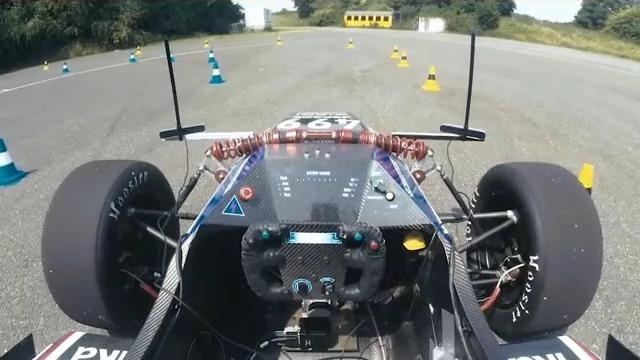blue_cone: (0, 138, 29, 188), (208, 62, 226, 85), (208, 49, 217, 64)
yellow_cone: (423, 65, 441, 91), (397, 52, 411, 67), (391, 45, 402, 58)
